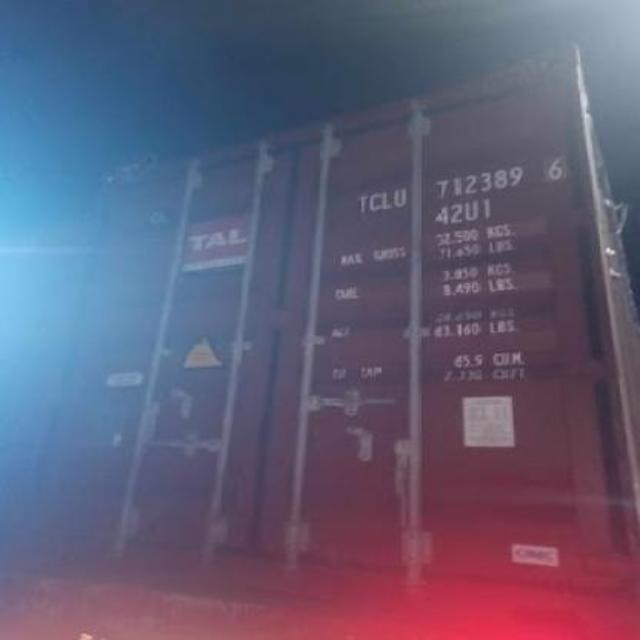1: (452, 178, 464, 196)
2: (464, 177, 478, 193)
3: (480, 172, 492, 192)
6: (546, 158, 566, 178)
7: (434, 179, 450, 197)
8: (492, 168, 510, 188)
9: (511, 167, 524, 185)
C: (366, 194, 384, 212)
L: (381, 191, 394, 207)
T: (356, 194, 368, 212)
U: (394, 190, 410, 206)
